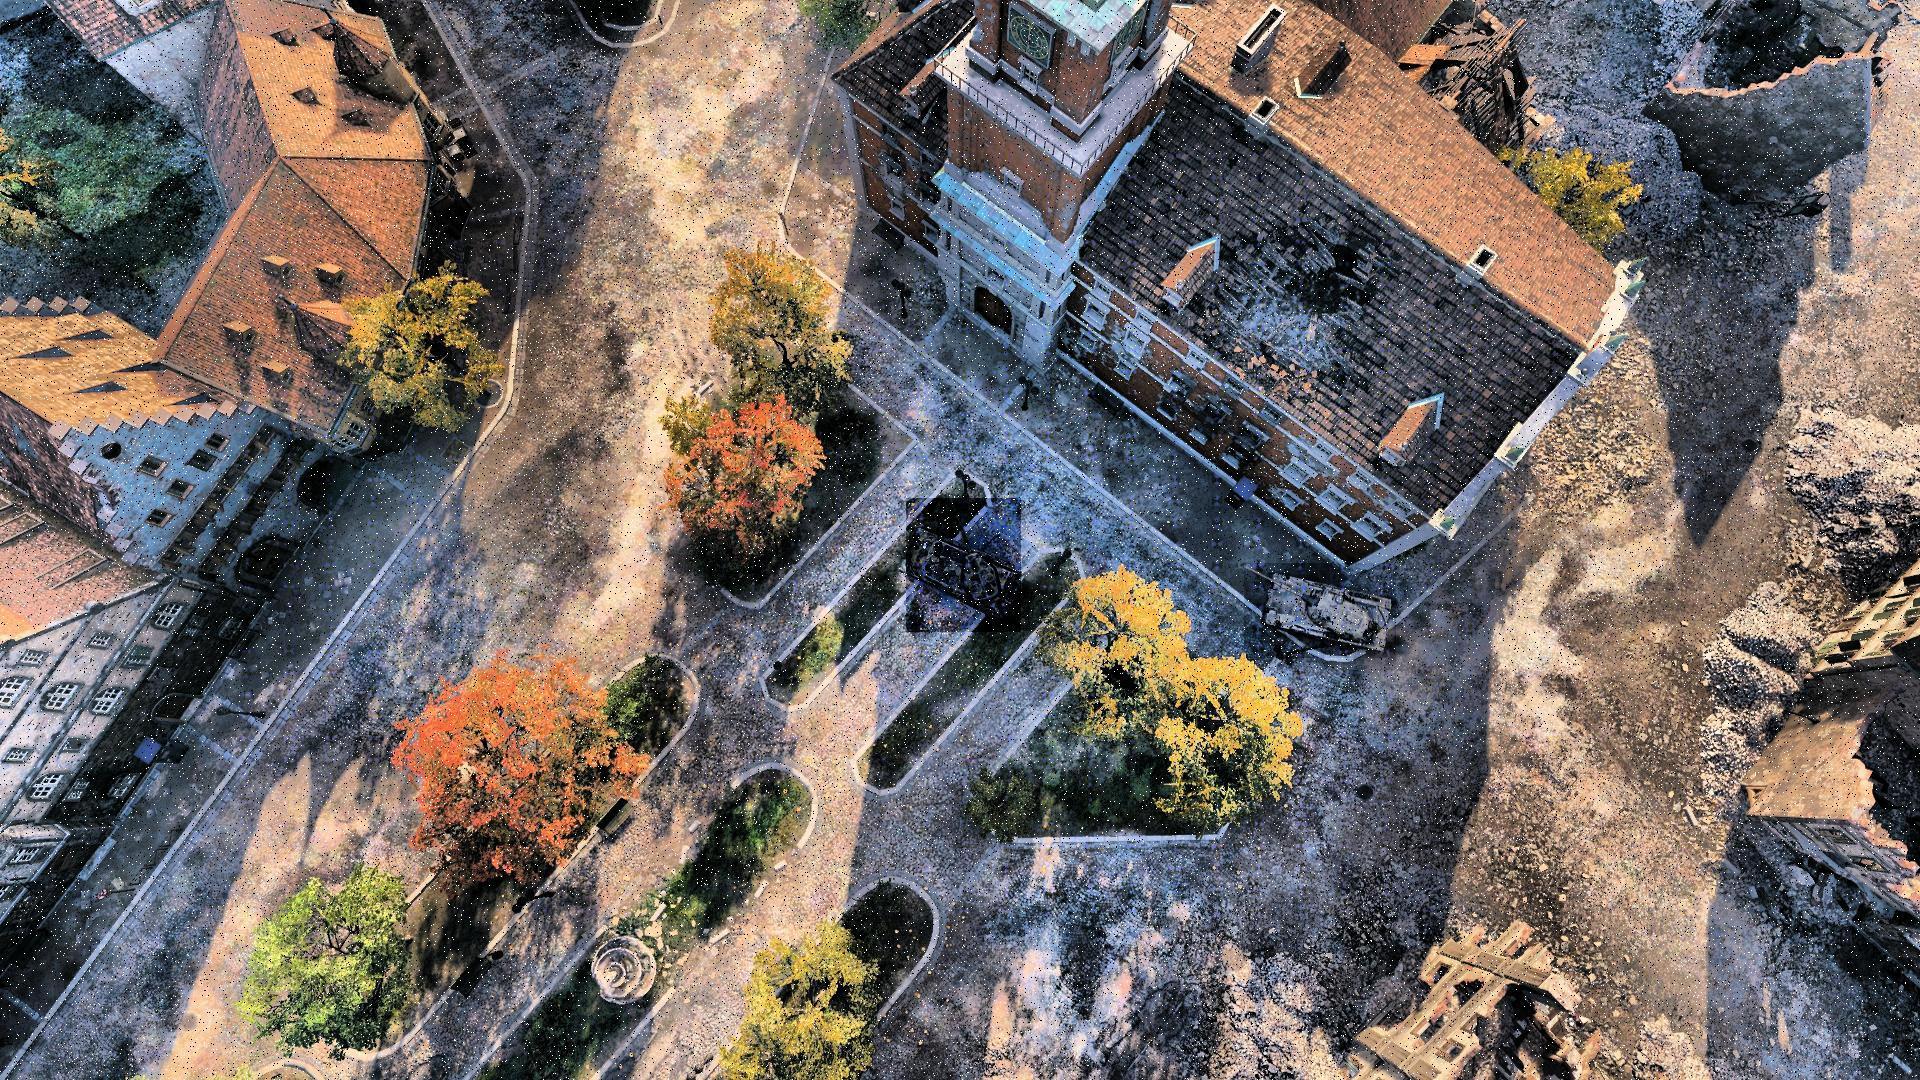military-vehicle: (907, 498, 1022, 632), (1245, 563, 1396, 658)
